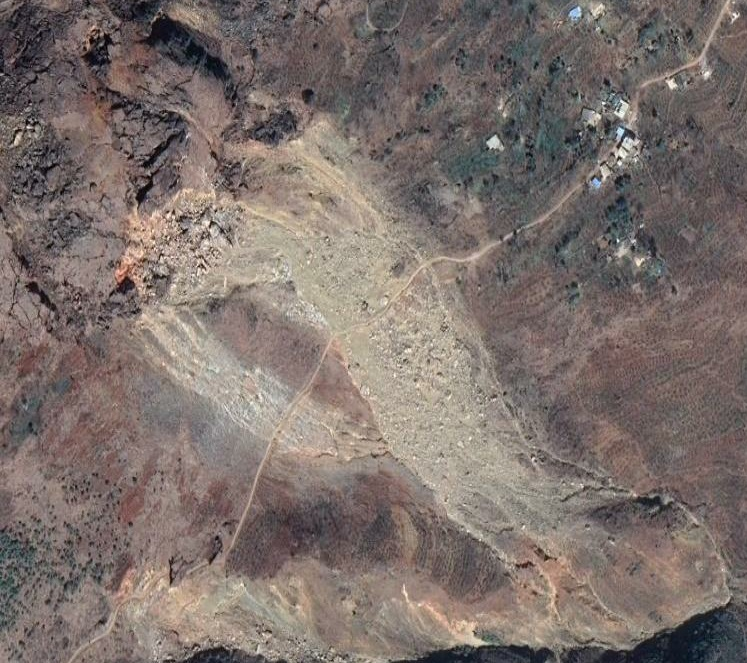slope: (122, 146, 379, 303), (139, 552, 351, 662), (574, 500, 733, 629), (285, 404, 385, 452)
